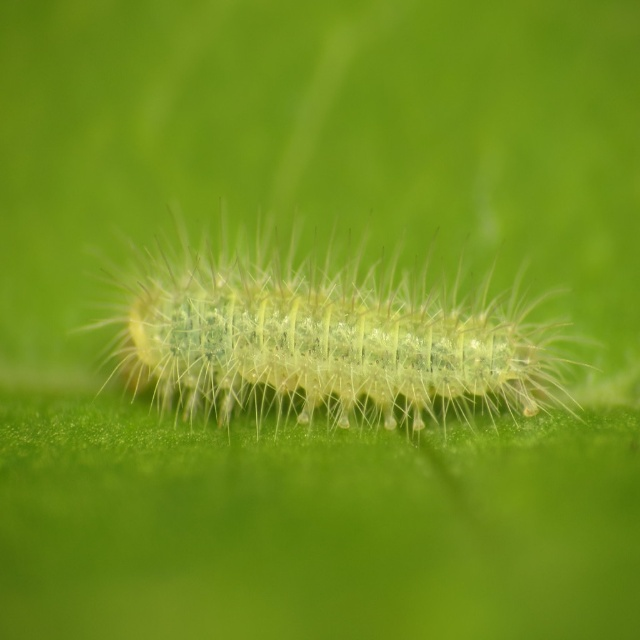Caterpillar: (66, 195, 602, 445)
